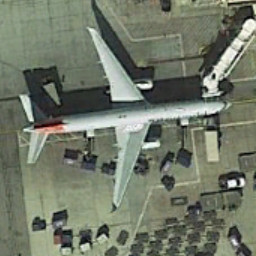Airplane: (11, 17, 235, 218)
